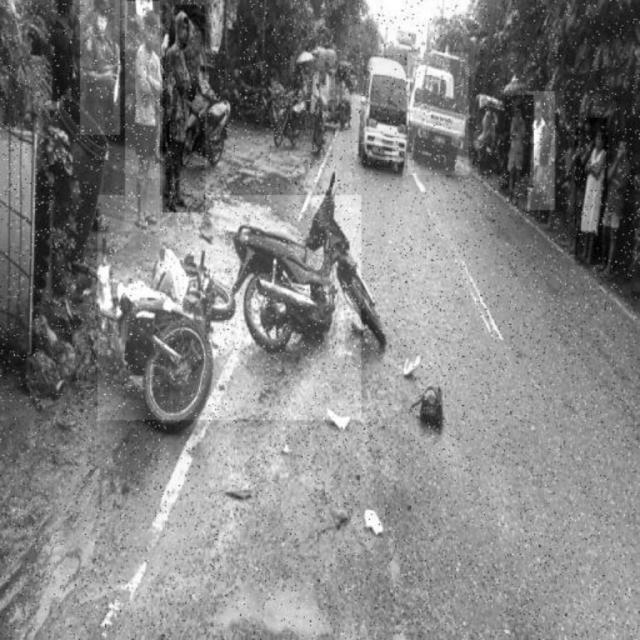accident: (98, 195, 361, 419)
person: (163, 6, 205, 213), (125, 1, 160, 231), (595, 132, 633, 276), (81, 0, 121, 134), (575, 118, 607, 265), (527, 92, 555, 210), (505, 95, 533, 187)
vehicle: (408, 53, 469, 175), (364, 55, 415, 167)
